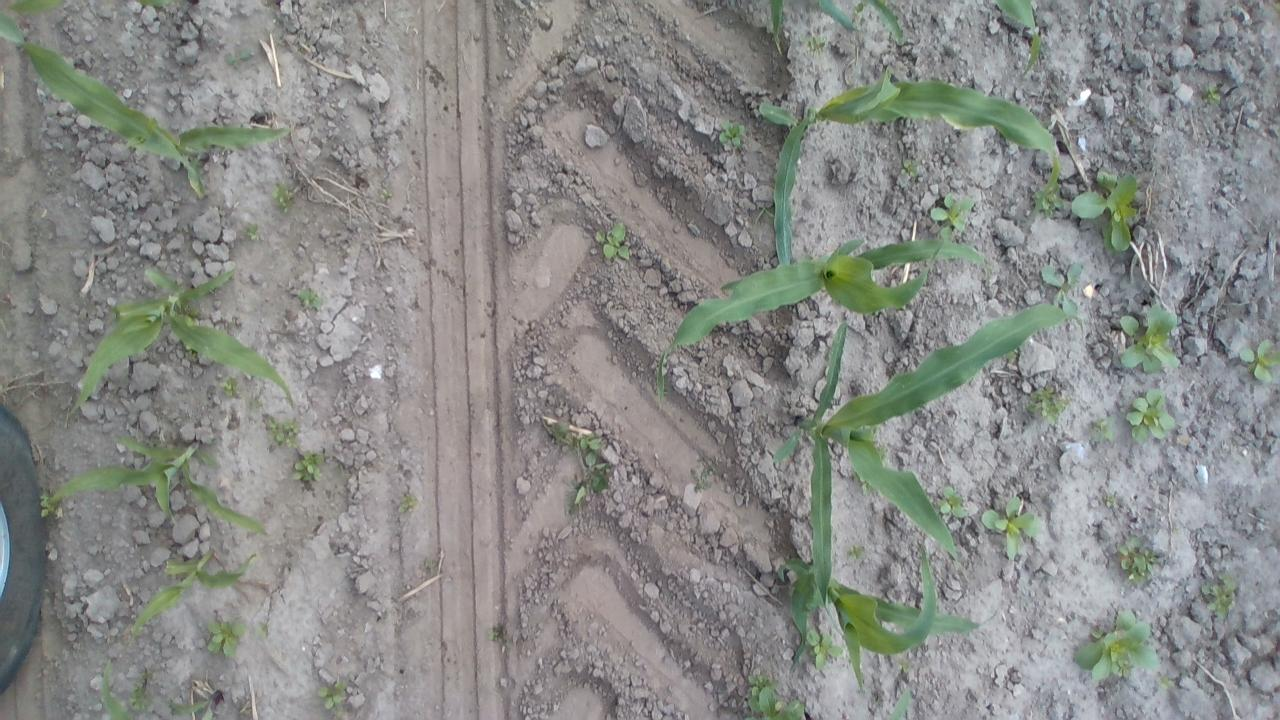Maize: (776, 299, 1070, 609), (754, 56, 1062, 270), (656, 238, 995, 415), (0, 10, 292, 194), (770, 534, 1000, 695), (66, 262, 298, 420), (48, 432, 270, 535), (123, 544, 252, 636), (995, 0, 1044, 73), (859, 0, 906, 47), (96, 662, 133, 718), (810, 0, 862, 38), (167, 687, 225, 720), (765, 0, 790, 66), (884, 686, 914, 720), (12, 0, 63, 11), (138, 0, 172, 11)
Weeds: (545, 414, 617, 514), (1066, 169, 1144, 251), (1075, 604, 1159, 679), (1110, 300, 1186, 378), (979, 490, 1043, 563), (925, 190, 978, 242), (1126, 388, 1178, 441), (1038, 264, 1088, 316), (1120, 530, 1164, 588), (1024, 384, 1072, 430), (1238, 334, 1279, 385), (203, 615, 248, 661), (1200, 572, 1238, 624), (747, 687, 805, 720), (594, 220, 634, 265), (804, 630, 844, 670), (264, 414, 304, 450), (293, 446, 325, 490), (714, 116, 749, 152), (314, 677, 348, 711), (292, 282, 328, 314), (686, 460, 718, 494), (1086, 410, 1118, 444), (938, 481, 967, 516), (1033, 185, 1061, 216), (744, 671, 776, 696), (272, 182, 294, 214), (900, 154, 924, 182), (128, 685, 151, 714), (38, 486, 60, 516), (802, 31, 827, 54), (222, 49, 252, 68), (1200, 80, 1222, 105), (394, 492, 416, 516), (217, 377, 239, 401), (487, 621, 509, 644), (843, 543, 866, 562), (419, 555, 442, 573), (245, 218, 262, 241), (900, 657, 921, 675), (1099, 492, 1118, 510), (1158, 675, 1173, 693), (256, 616, 268, 636), (854, 2, 868, 17), (380, 187, 393, 203), (139, 666, 153, 679)
